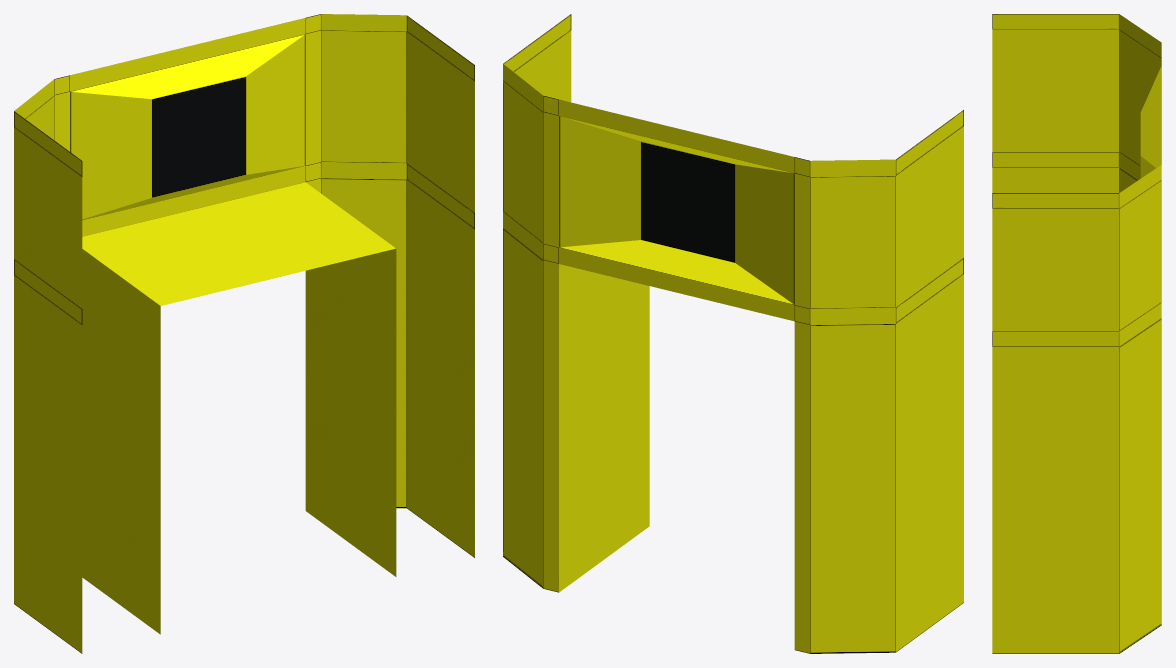
The model's file is Frame_1.fbx.
3 views of the same model, side by side, from view 1: azimuth 30°, elevation 25°; view 2: azimuth 150°, elevation 25°; view 3: azimuth 270°, elevation 25° (orthographic). The views are drawn at different scales.
Parts seen in each view (by area): view 1: Frame1; view 2: Frame1; view 3: Frame1.
Boxes of the visible parts, box(x1,y1,x2,y2) form: Frame1: box(14, 14, 474, 653); Frame1: box(503, 14, 963, 653); Frame1: box(992, 14, 1161, 653).
Size of the model in its own units: 250 by 300 by 100.
